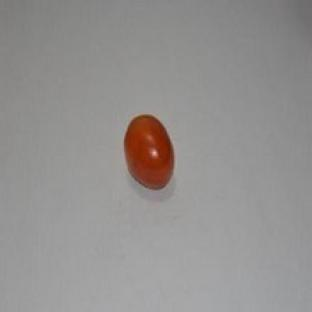Tomato: (124, 115, 174, 189)
